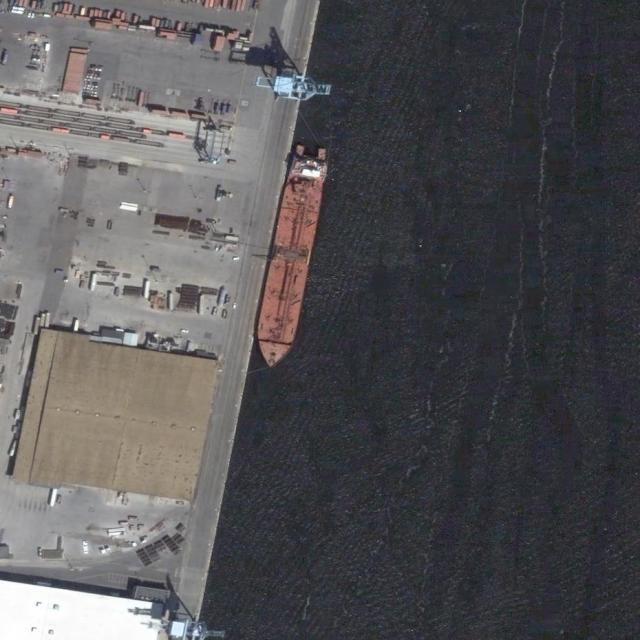Oil Tanker: (247, 136, 334, 374)
